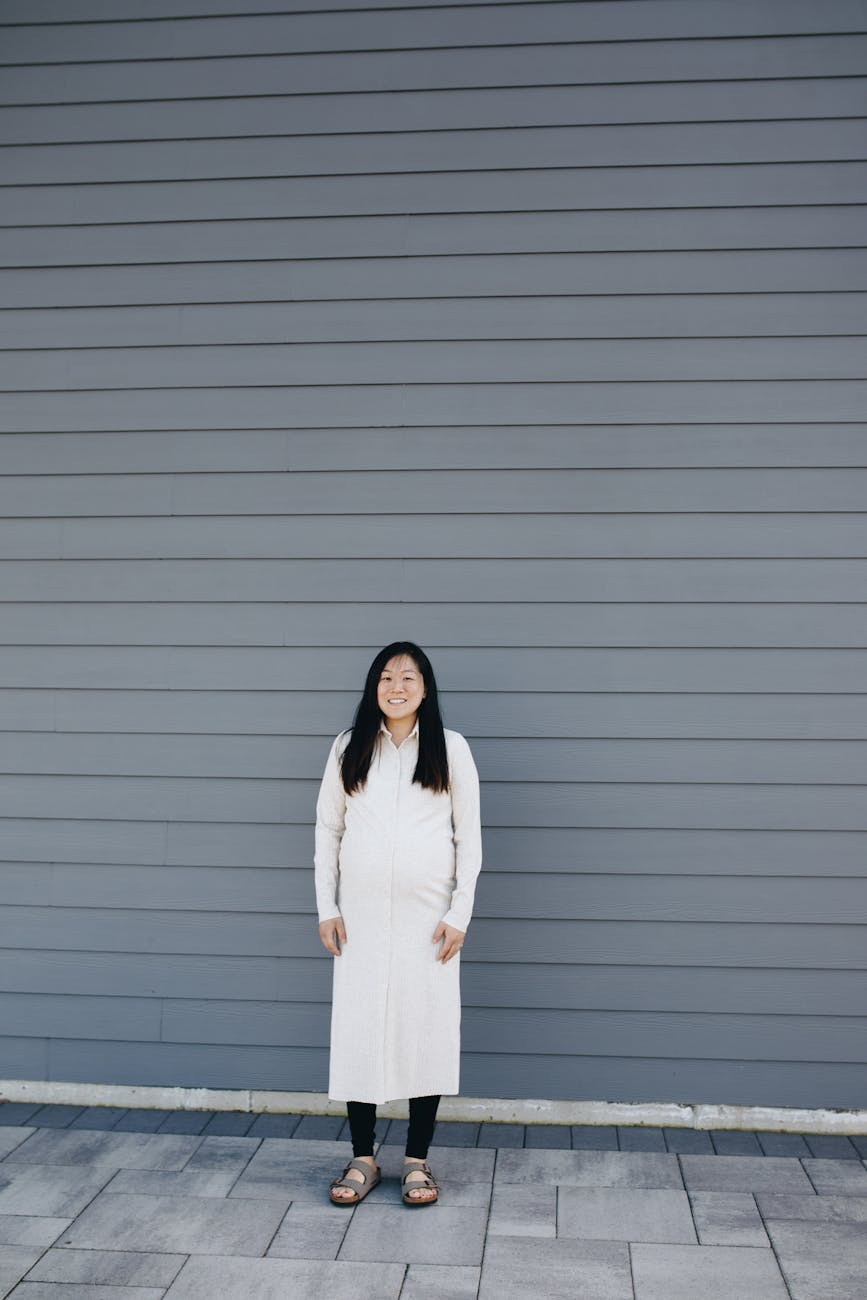opened_foot: (329, 1155, 385, 1204), (395, 1164, 442, 1210)
